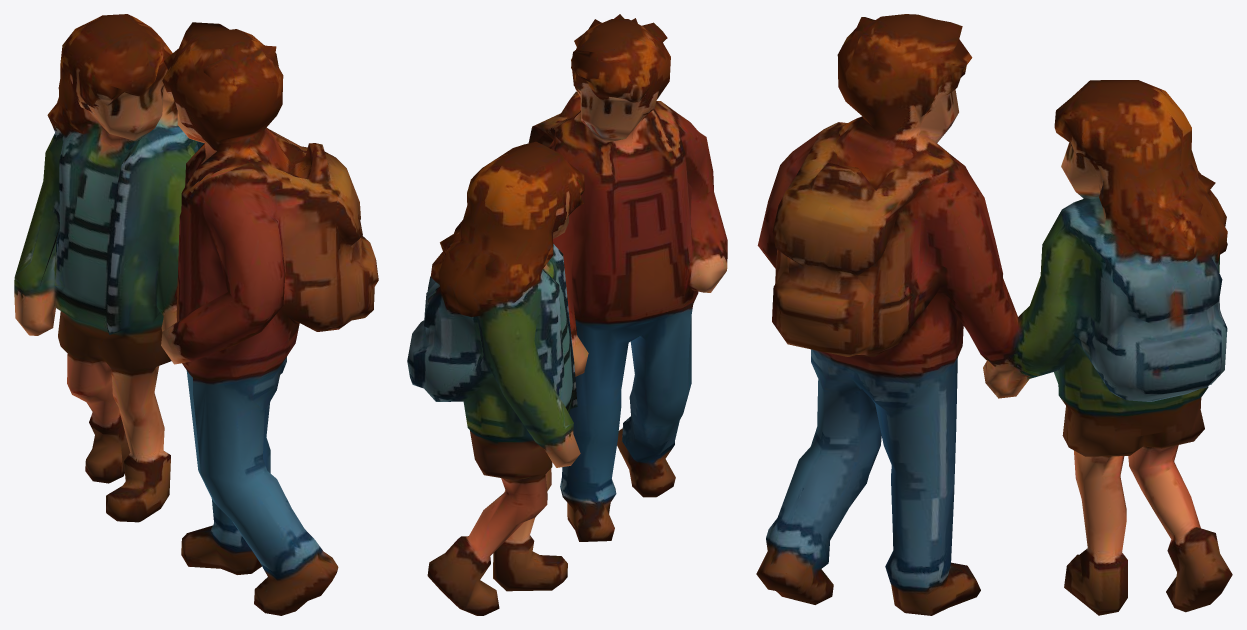
Rendered from demo_couple_pixel.glb.
3 views of the same model, side by side, from view 1: azimuth 30°, elevation 25°; view 2: azimuth 150°, elevation 25°; view 3: azimuth 270°, elevation 25° (orthographic). The views are drawn at different scales.
Visible parts, largest first — view 1: tripo_node_6a3f3a54-9501-4636-bbcd-b9676fe9f171.001; view 2: tripo_node_6a3f3a54-9501-4636-bbcd-b9676fe9f171.001; view 3: tripo_node_6a3f3a54-9501-4636-bbcd-b9676fe9f171.001.
Boxes of the visible parts, x1,y1,x2,y2 form: tripo_node_6a3f3a54-9501-4636-bbcd-b9676fe9f171.001: [14, 14, 378, 615]; tripo_node_6a3f3a54-9501-4636-bbcd-b9676fe9f171.001: [407, 14, 727, 615]; tripo_node_6a3f3a54-9501-4636-bbcd-b9676fe9f171.001: [756, 14, 1232, 615].
Size of the model in its own units: 0.3939 by 0.9979 by 0.7442.
Materials: 1 (1 with a texture image).
